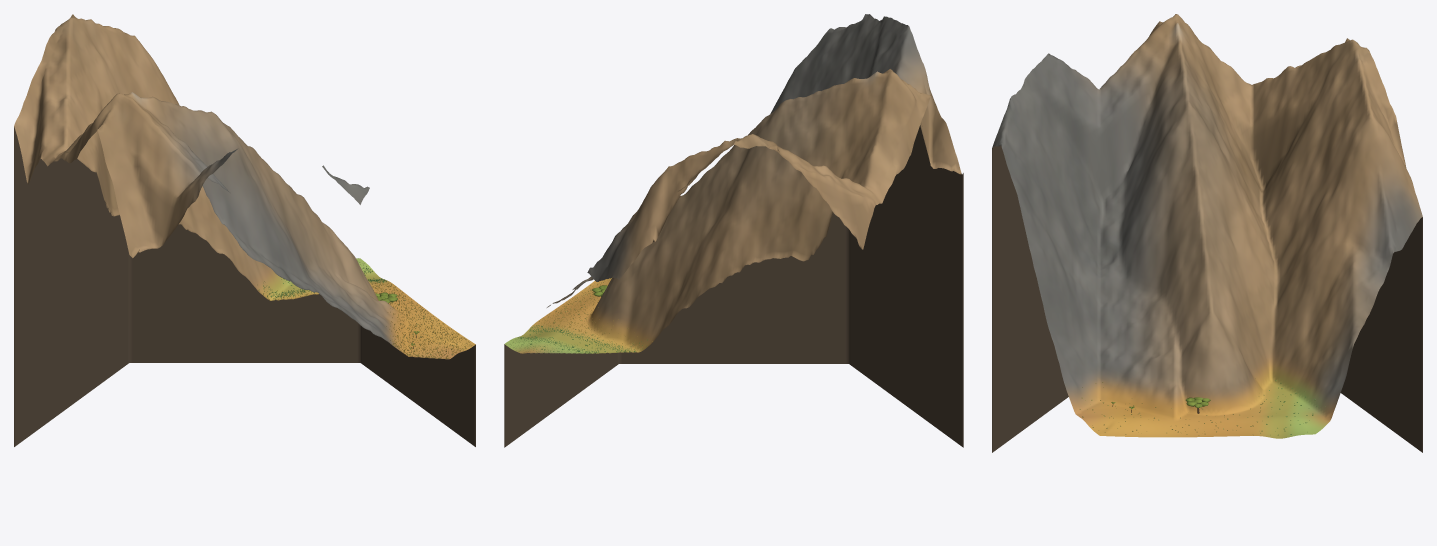
3 views of the same model, side by side, from view 1: azimuth 30°, elevation 25°; view 2: azimuth 150°, elevation 25°; view 3: azimuth 270°, elevation 25° (orthographic). The views are drawn at different scales.
Parts seen in each view (by area): view 1: hex_side_cut, terrain, SV_W_wildflowers; view 2: terrain, hex_side_cut, SV_W_wildflowers; view 3: terrain, hex_side_cut.
Part boxes in pixels (left/top/right/bottom): hex_side_cut: left=14, top=126, right=475, bottom=446; terrain: left=14, top=14, right=475, bottom=359; SV_W_wildflowers: left=258, top=258, right=474, bottom=358; terrain: left=505, top=14, right=961, bottom=353; hex_side_cut: left=504, top=125, right=963, bottom=447; SV_W_wildflowers: left=506, top=278, right=652, bottom=353; terrain: left=992, top=14, right=1422, bottom=438; hex_side_cut: left=992, top=145, right=1422, bottom=452.
Size of the model in its own units: 4330 by 4786 by 5000.
